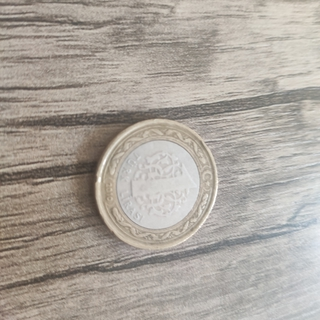1TL: (89, 116, 219, 252)
